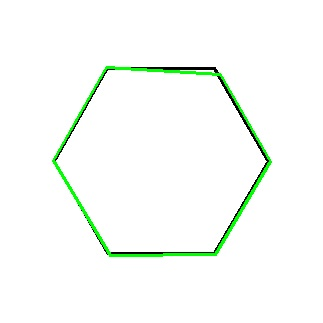line_segment: (53, 66, 271, 256)
